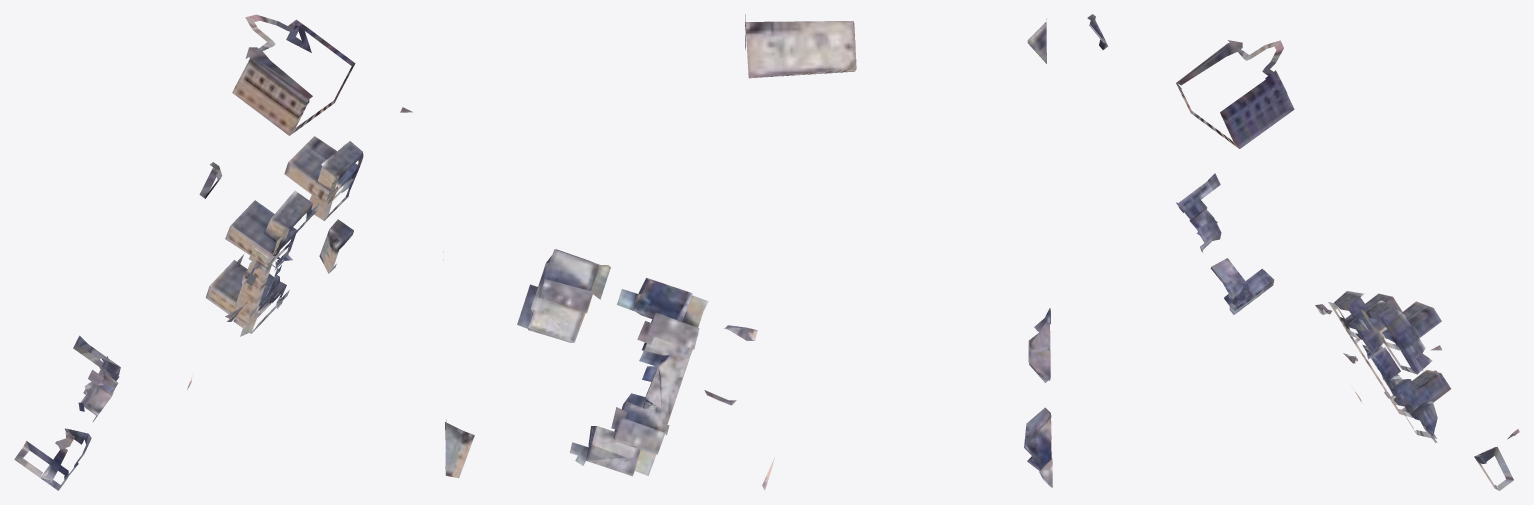
3 views of the same model, side by side, from view 1: azimuth 30°, elevation 25°; view 2: azimuth 150°, elevation 25°; view 3: azimuth 270°, elevation 25° (orthographic). The views are drawn at different scales.
Bounding box in the file's own units: 137 × 109 × 115.
Materials: 1 (1 with a texture image).
